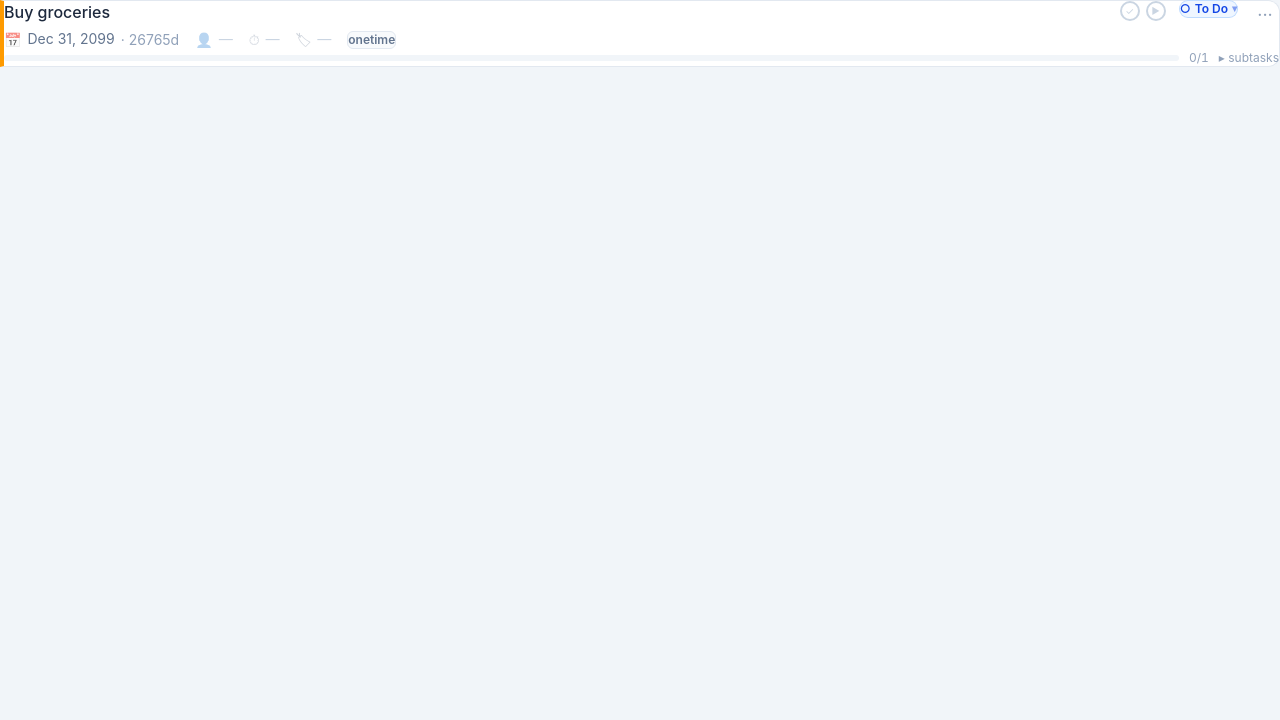
Test: TaskCard — mark-done flow › opens the SubtaskConfirmModal when there are incomplete subtasks
Click the button titled "Mark as done" at (1130, 11), box [1120,1,1140,21]
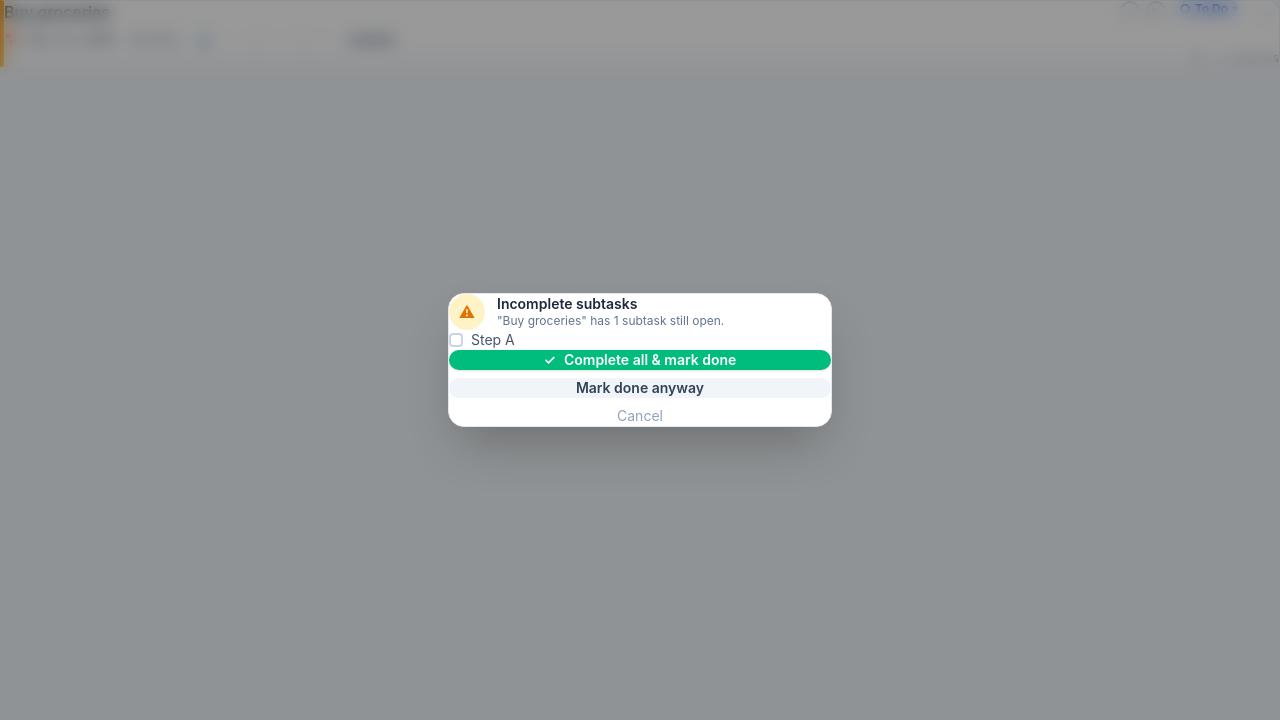
Check: the text "Incomplete subtasks" is shown, box [497,295,637,312]
